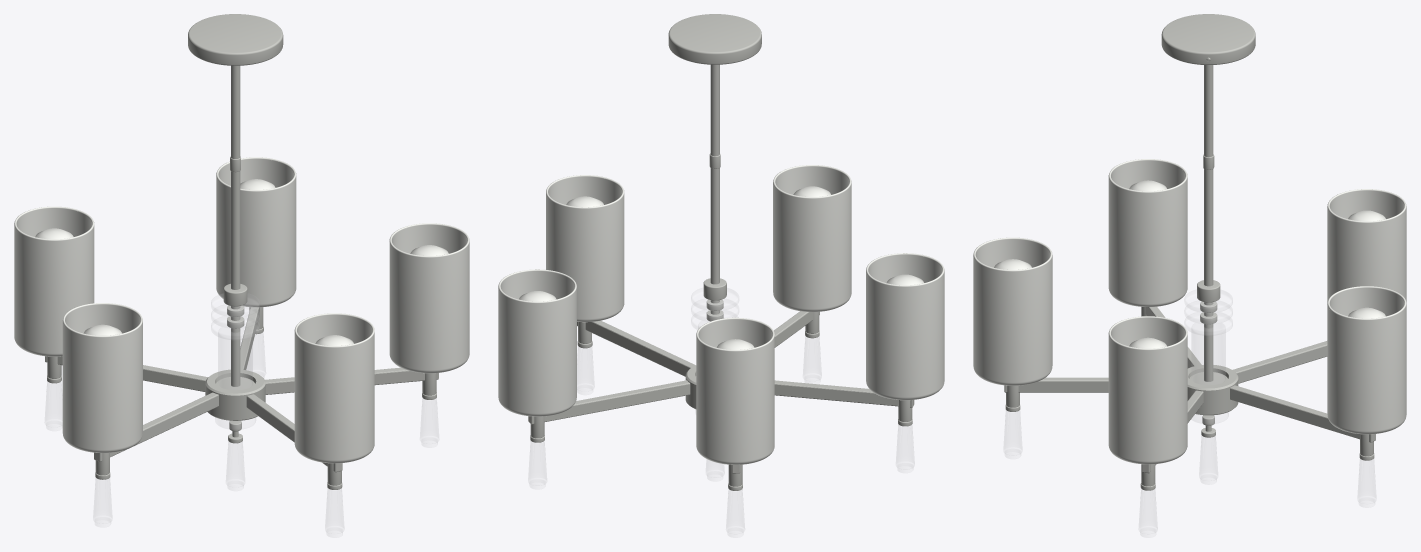
3 renders of one model, left to right at view 1: azimuth 30°, elevation 25°; view 2: azimuth 150°, elevation 25°; view 3: azimuth 270°, elevation 25°, orthographic. The views are drawn at different scales.
Visible parts, largest first — view 1: opal, metal, crystal, L0_bulb; view 2: opal, metal, crystal, L0_bulb; view 3: opal, metal, crystal, L0_bulb.
Part boxes in pixels (x1,y1,x2,y2): opal: [14, 157, 469, 463]; metal: [45, 14, 438, 489]; crystal: [44, 294, 438, 537]; L0_bulb: [35, 179, 448, 345]; opal: [498, 165, 944, 464]; metal: [528, 14, 914, 490]; crystal: [528, 288, 914, 537]; L0_bulb: [519, 186, 923, 349]; opal: [973, 159, 1406, 464]; metal: [1004, 14, 1375, 490]; crystal: [1004, 290, 1375, 537]; L0_bulb: [994, 180, 1385, 348].
Size of the model in its own units: 0.5765 by 0.632 by 0.5533.
Materials: 4 (4 with a texture image).
